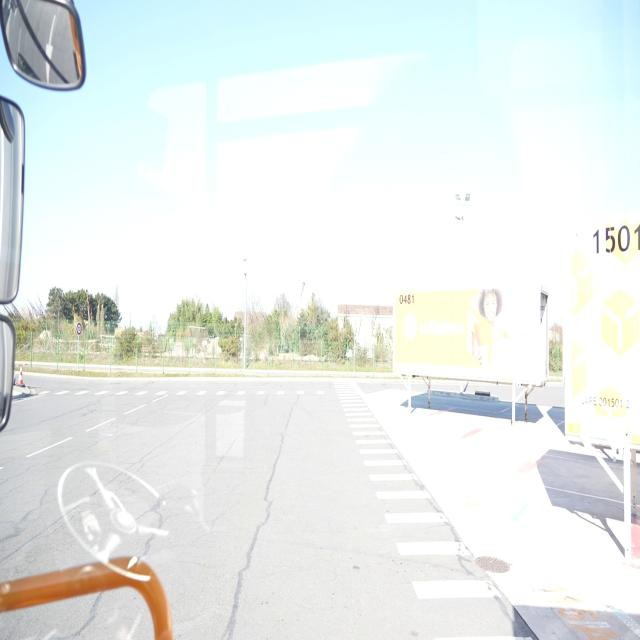Code: (397, 289, 416, 307)
